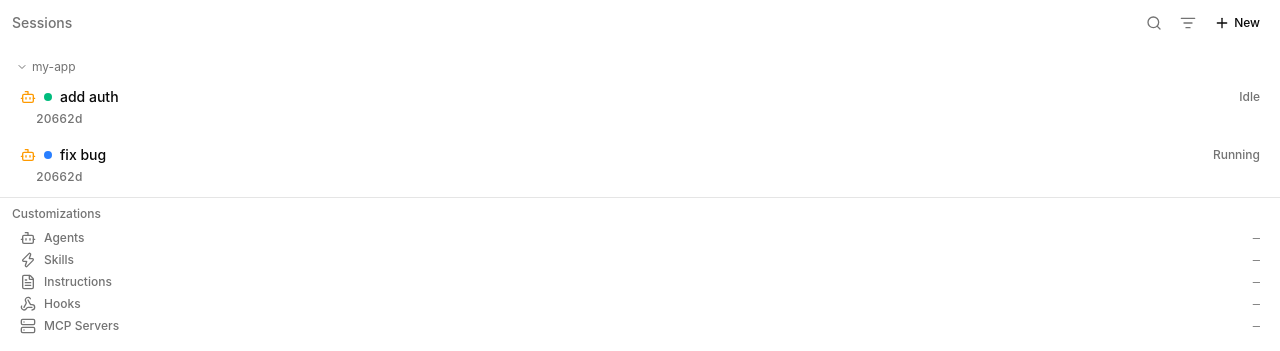
Scenario: double-clicking a session title opens an inline editor seeded with the title
The width and height of the screenshot is (1280, 351).
Double-click the text "add auth".
double_click(89, 96)  # box [60,88,119,105]
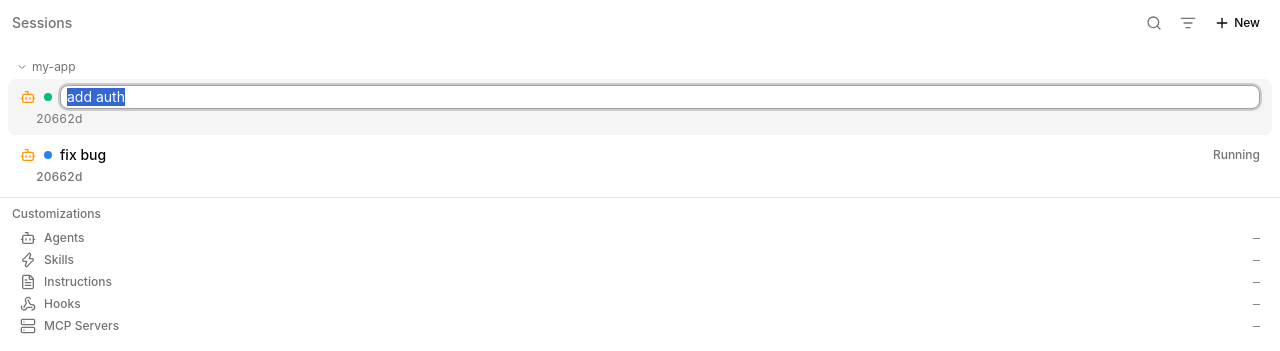
Expected: the field named "session title" holds "add auth", [60,85,1260,108]
